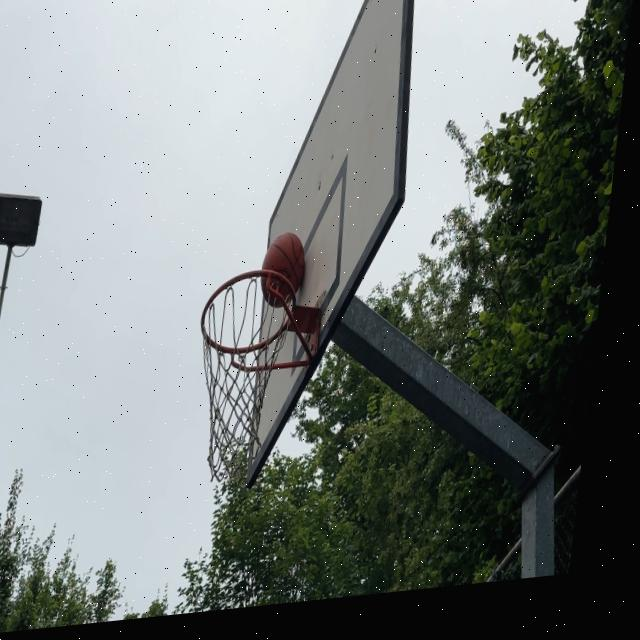rebound_hit: (257, 230, 310, 309)
